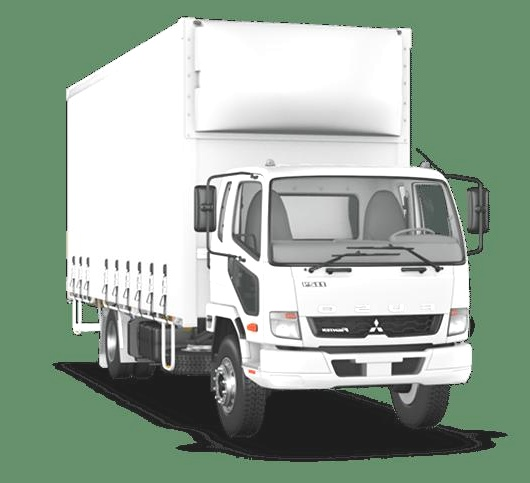truck: (63, 18, 472, 436)
